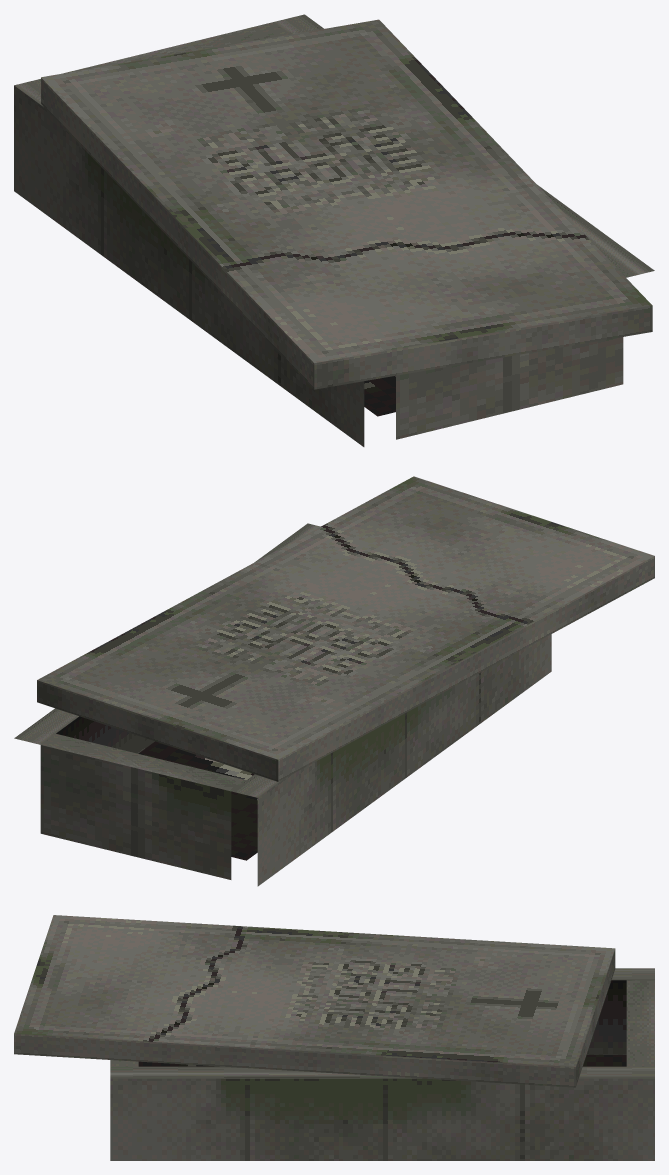
File: gravestone_slab.glb
3 renders of one model, top to bottom at view 1: azimuth 30°, elevation 25°; view 2: azimuth 150°, elevation 25°; view 3: azimuth 270°, elevation 25°, orthographic. The views are drawn at different scales.
Parts seen in each view (by area): view 1: gravestone_slab; view 2: gravestone_slab; view 3: gravestone_slab.
Boxes of the visible parts, <box> form: gravestone_slab: <box>14,14,654,446</box>; gravestone_slab: <box>14,476,654,886</box>; gravestone_slab: <box>14,915,654,1160</box>.
Size of the model in its own units: 1.27 by 0.4 by 2.26.
Materials: 1 (1 with a texture image).
